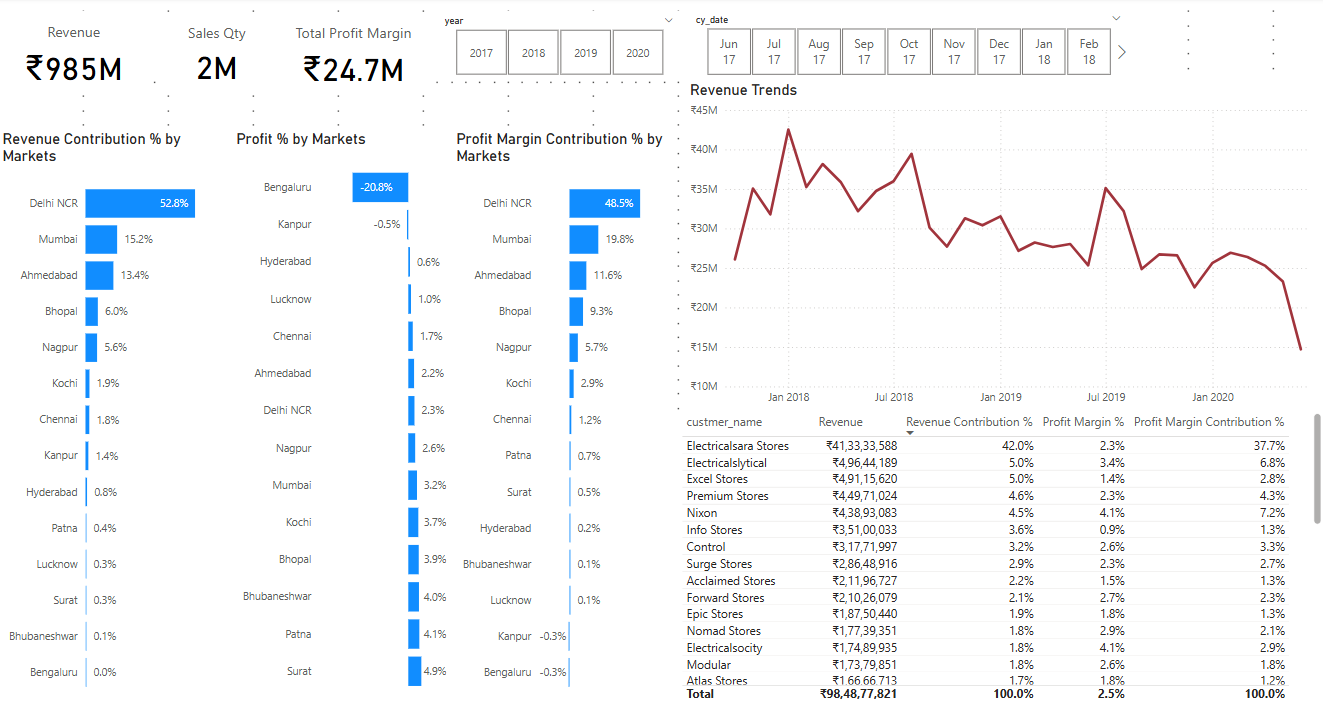

Layout of this report page (visuals, bound fields, positions):
{"tool":"powerbi","page":{"name":"Profit Analysis","canvas":[1500,815],"ordinal":1},"visuals":[{"type":"textbox","box":[78,336,299,301],"z":0},{"type":"cardVisual","fields":{"Data":["BaseMeasures.Revenue"]},"box":[0,15.5,172.2,103.1],"z":1000},{"type":"cardVisual","fields":{"Data":["BaseMeasures.Sales Qty"]},"box":[182.1,16.9,131.3,103.1],"z":2000},{"type":"barChart","title":"Profit % by Markets","fields":{"Category":["sales markets.markets_name"],"Y":["BaseMeasures.Profit Margin %"]},"box":[264,149.6,248.5,664.9],"z":3000},{"type":"barChart","title":"Profit Margin Contribution % by Markets","fields":{"Category":["sales markets.markets_name"],"Y":["BaseMeasures.Profit Margin Contribution %"]},"box":[512.5,149.6,254.1,664.9],"z":4000},{"type":"slicer","fields":{"Values":["sales date.year"]},"box":[491.3,15.5,283.8,79.1],"z":5000},{"type":"slicer","fields":{"Values":["sales date.cy_date"]},"box":[775.1,14.1,505.4,80.5],"z":6000},{"type":"tableEx","title":"Top 5 Customers","fields":{"Values":["sales customers.custmer_name","BaseMeasures.Revenue","BaseMeasures.Revenue Contribution %","BaseMeasures.Profit Margin %","BaseMeasures.Profit Margin Contribution %"]},"box":[766.6,470.1,734.1,344.5],"z":7000},{"type":"lineChart","title":"Revenue Trends","fields":{"Category":["sales date.cy_date"],"Y":["BaseMeasures.Revenue"]},"box":[776.5,94.6,724.2,375.5],"z":8000},{"type":"cardVisual","fields":{"Data":["BaseMeasures.Total Profit Margin"]},"box":[313.4,16.9,177.9,103.1],"z":9000},{"type":"barChart","title":"Revenue Contribution % by Markets","fields":{"Category":["sales markets.markets_name"],"Y":["BaseMeasures.Revenue Contribution %"]},"box":[0,149.6,264,664.9],"z":10000}]}

Visuals, with their boxes in screenshot pixels (x1, y1, x2, y2), scaled from the page's 1500x815 canvas onto the 1323x717 screenshot:
textbox: pyautogui.locateOnScreen(69, 296, 333, 560)
cardVisual - BaseMeasures.Revenue: pyautogui.locateOnScreen(0, 14, 152, 104)
cardVisual - BaseMeasures.Sales Qty: pyautogui.locateOnScreen(161, 15, 276, 106)
"Profit % by Markets" barChart: pyautogui.locateOnScreen(233, 132, 452, 716)
"Profit Margin Contribution % by Markets" barChart: pyautogui.locateOnScreen(452, 132, 676, 716)
slicer - sales date.year: pyautogui.locateOnScreen(433, 14, 684, 83)
slicer - sales date.cy_date: pyautogui.locateOnScreen(684, 12, 1129, 83)
"Top 5 Customers" tableEx: pyautogui.locateOnScreen(676, 414, 1322, 716)
"Revenue Trends" lineChart: pyautogui.locateOnScreen(685, 83, 1322, 414)
cardVisual - BaseMeasures.Total Profit Margin: pyautogui.locateOnScreen(276, 15, 433, 106)
"Revenue Contribution % by Markets" barChart: pyautogui.locateOnScreen(0, 132, 233, 716)
